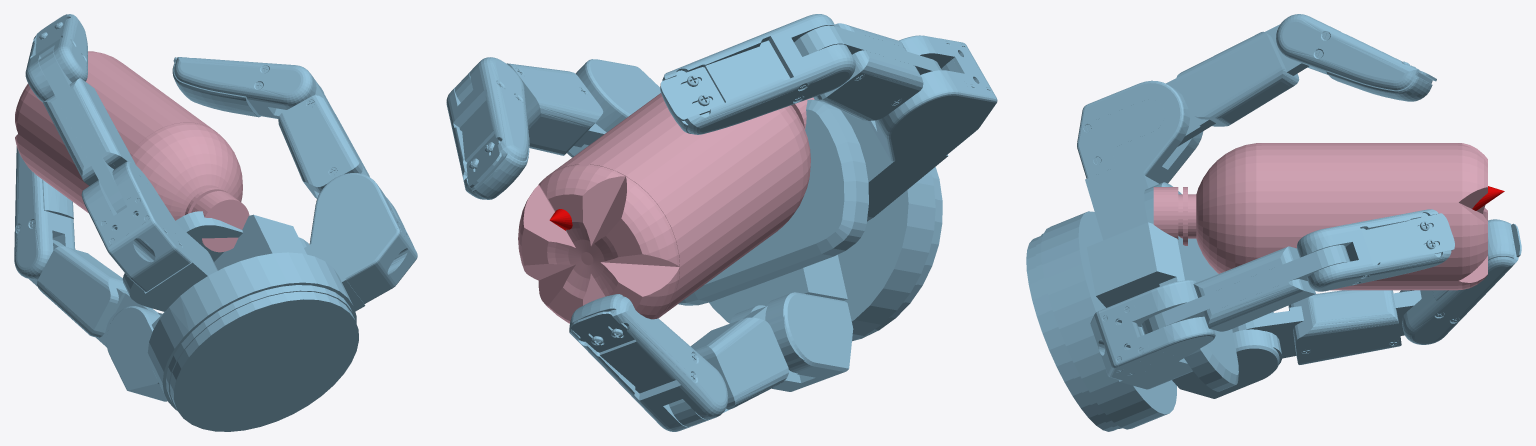
3 views of the same model, side by side, from view 1: azimuth 30°, elevation 25°; view 2: azimuth 150°, elevation 25°; view 3: azimuth 270°, elevation 25° (orthographic). The views are drawn at different scales.
Parts seen in each view (by area): view 1: world, water_bottle.stl; view 2: world, water_bottle.stl; view 3: world, water_bottle.stl.
Part boxes in pixels (bbox=[...]): world: bbox=[14, 14, 417, 431]; water_bottle.stl: bbox=[15, 51, 249, 252]; world: bbox=[446, 14, 997, 431]; water_bottle.stl: bbox=[518, 93, 814, 323]; world: bbox=[1026, 14, 1521, 431]; water_bottle.stl: bbox=[1153, 143, 1487, 290].
Size of the model in its own units: 0.158 by 0.1608 by 0.2023.
